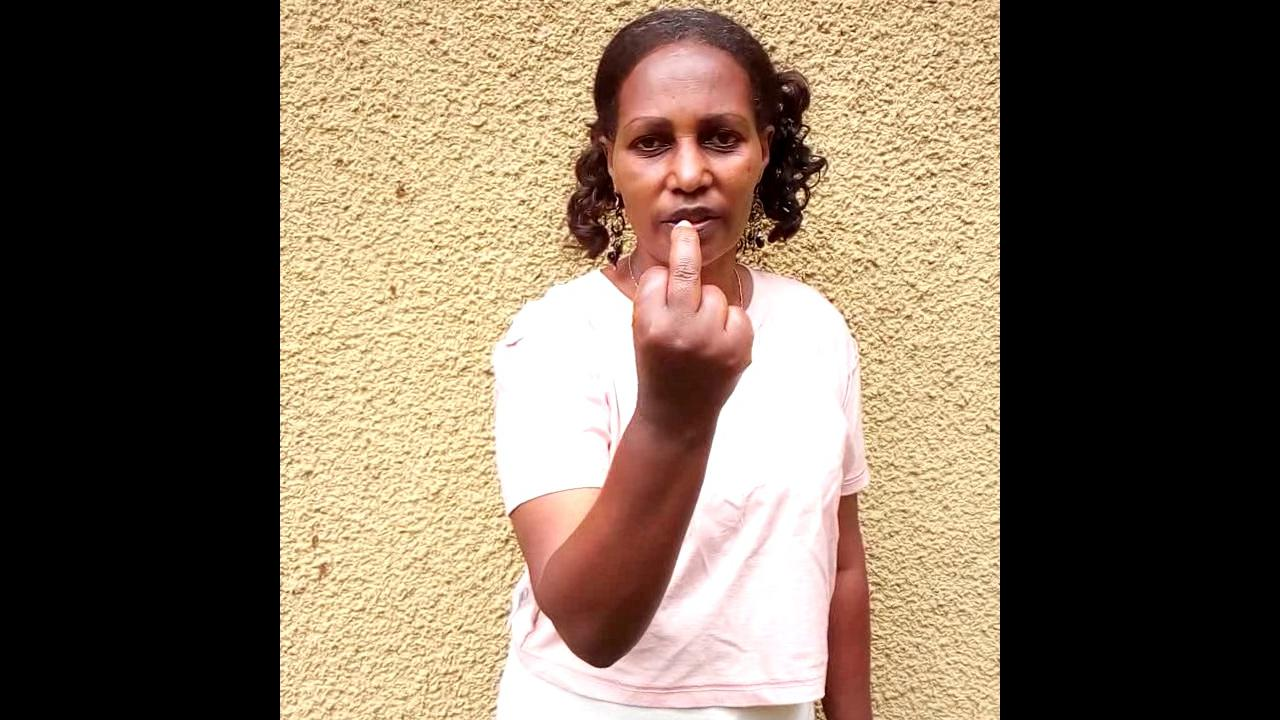CHE: (635, 215, 762, 552)
